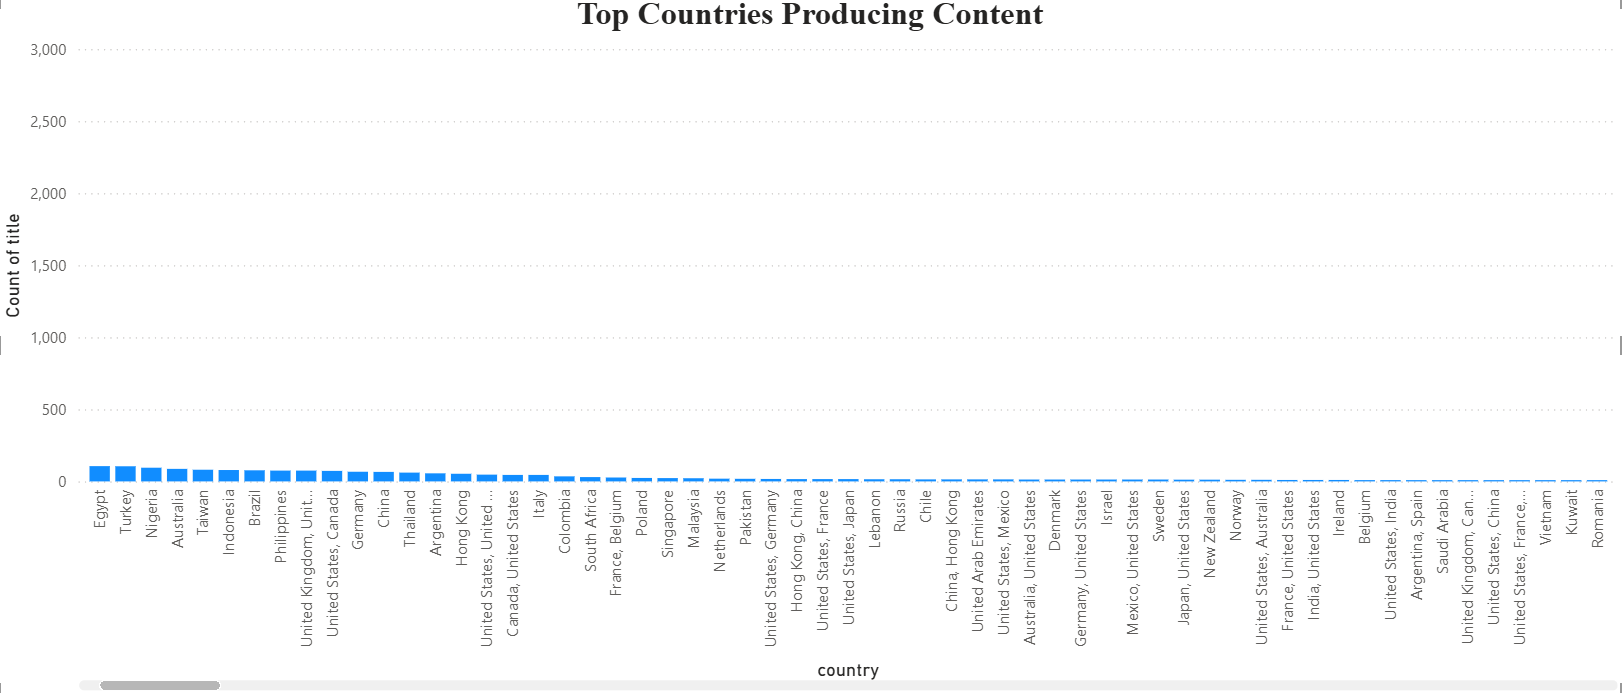

Layout of this report page (visuals, bound fields, positions):
{"tool":"powerbi","page":{"name":"Page 4","canvas":[1280,720],"ordinal":3},"visuals":[{"type":"columnChart","title":"Top Countries Producing Content","fields":{"Category":["netflix_cleaned_data.country"],"Y":["CountNonNull(netflix_cleaned_data.title)"]},"box":[0,0,1280,552.5],"z":0}]}

Visuals, with their boxes on the page's 1280x720 design canvas (x1, y1, x2, y2). These are canvas units, not pixel positions in the 1622x693 screenshot, which may show the page scaled, cropped or inside an application window:
"Top Countries Producing Content" columnChart: region(0, 0, 1280, 552)
